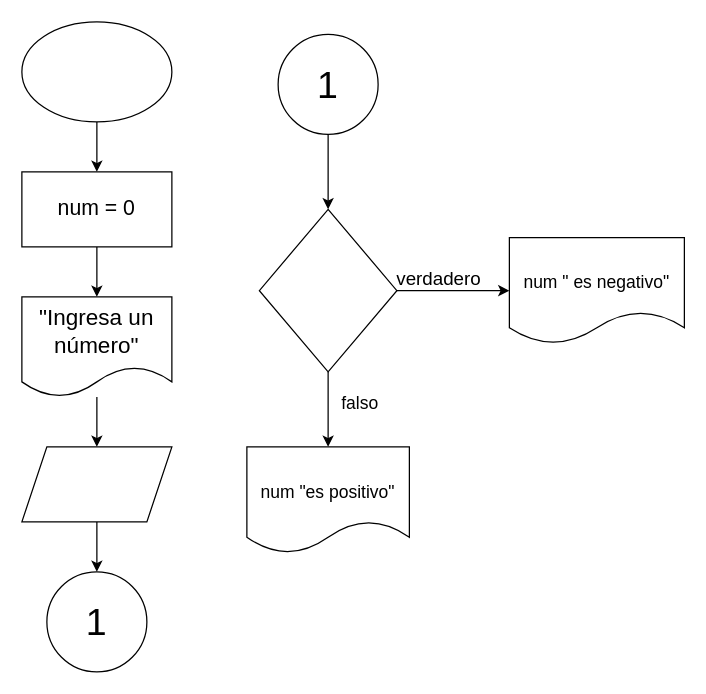
The diagram is 706 pixels wide and 694 high, and some of its shapes have lost their labels. Each missing label, with the box of its shape:
INICIO: (21, 21, 172, 122)
num: (21, 446, 172, 522)
num < 0: (258, 208, 397, 372)
